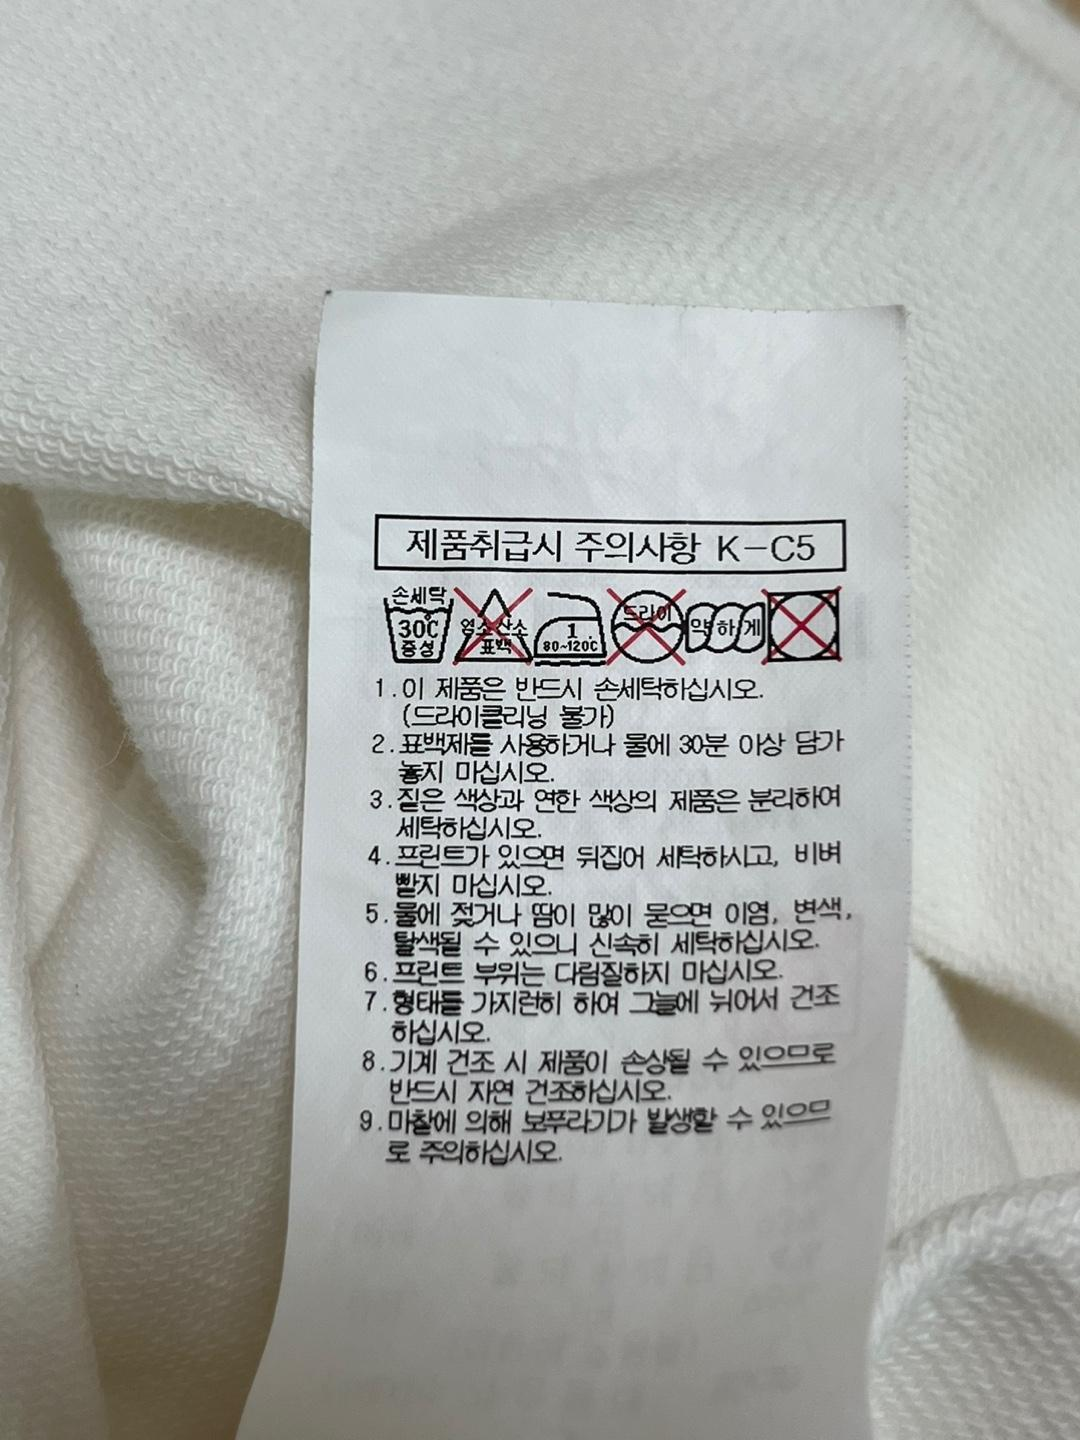DN_bleach: (459, 587, 533, 667)
DN_dry_clean: (606, 585, 689, 670)
DN_tumble_dry: (760, 581, 849, 670)
hand_wash: (381, 579, 463, 667)
iron_low: (535, 579, 610, 664)
wring: (685, 598, 768, 657)
